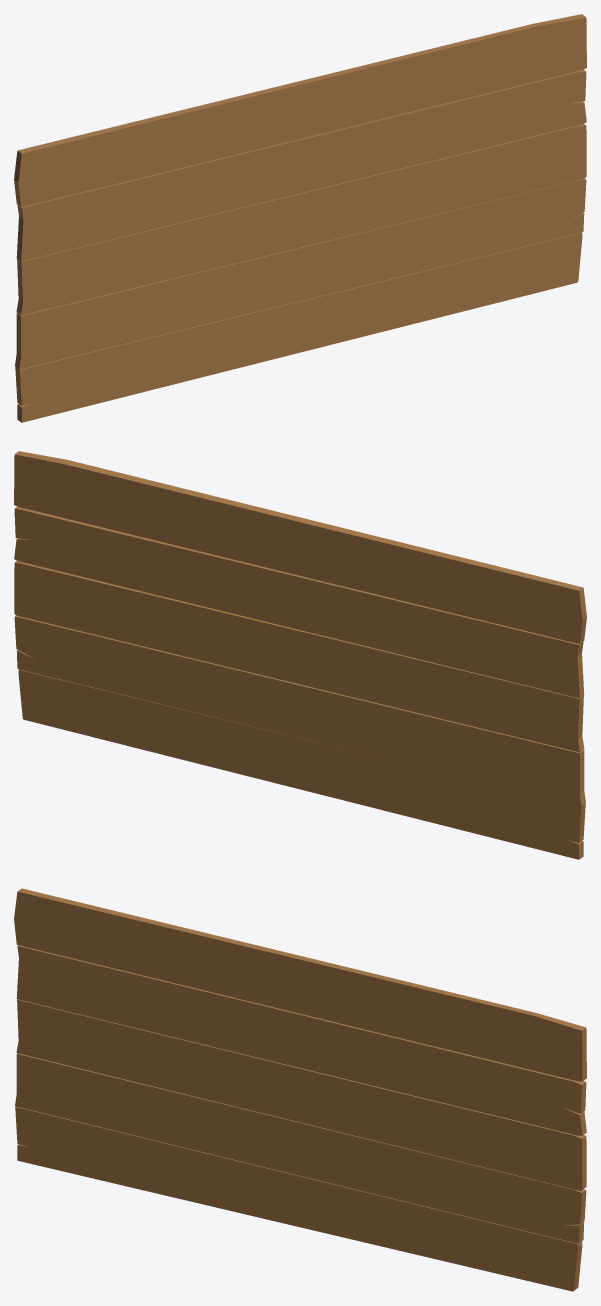
The model's file is sign.glb.
The picture shows the model from 3 angles, top to bottom: view 1: azimuth 30°, elevation 25°; view 2: azimuth 150°, elevation 25°; view 3: azimuth 330°, elevation 25°; orthographic projection.
Visible parts, largest first — view 1: Sign12; view 2: Sign12; view 3: Sign12.
Part boxes in pixels (left/top/right/bottom): Sign12: left=14, top=14, right=586, bottom=422; Sign12: left=14, top=451, right=586, bottom=859; Sign12: left=14, top=888, right=586, bottom=1291.
Size of the model in its own units: 2.99 by 1.36 by 0.0408.
